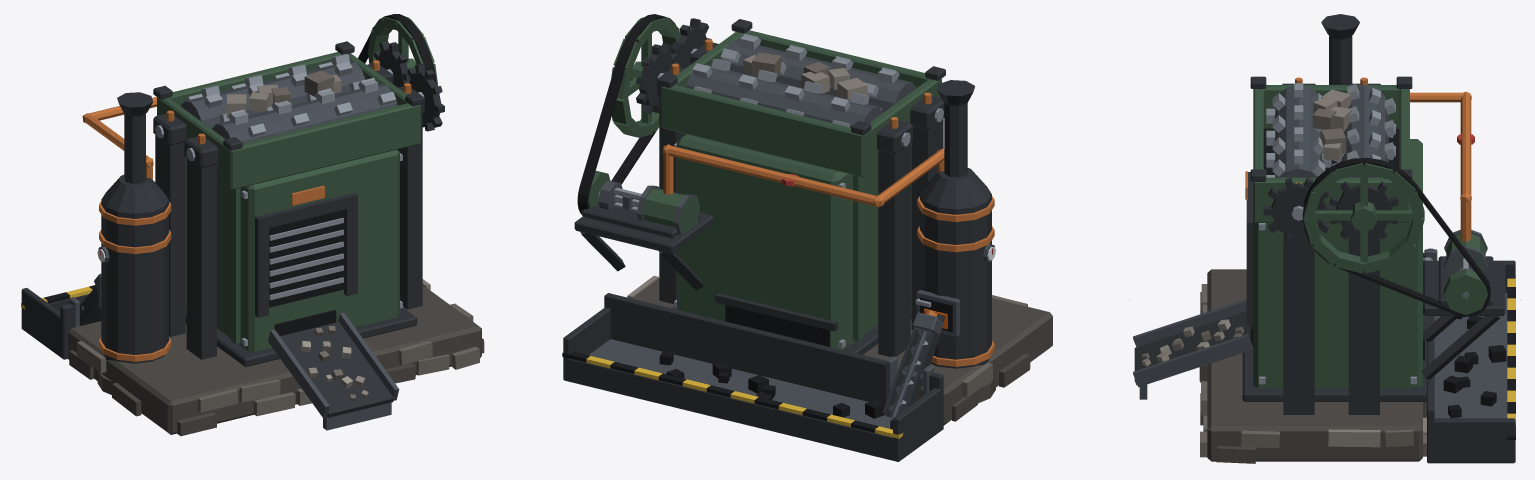
File: concasseur_t1.glb
3 renders of one model, left to right at view 1: azimuth 30°, elevation 25°; view 2: azimuth 150°, elevation 25°; view 3: azimuth 270°, elevation 25°, orthographic. The views are drawn at different scales.
Visible parts, largest first — view 1: pieces_fonte.015, bati.004, massif.005, pieces_vert_fonce.002, chaudiere.005, pieces_pierre.009, bouche_machoires.002, pieces_acier_sombre.015, rouleau_acier_sombre.002, pieces_acier.015, volant_acier_sombre.002, pieces_pierre_sombre.007 (+15 smaller); view 2: pieces_fonte.015, bati.004, pieces_vert_fonce.002, chaudiere.005, massif.005, bac_charbon.002, pieces_cuivre.007, volant_acier_sombre.002, pieces_noir.015, courroie.002, volant_vert_fonce.002, rouleau_acier_sombre.002 (+19 smaller); view 3: pieces_fonte.015, massif.005, bati.004, pieces_vert_fonce.002, volant_vert_fonce.002, bac_charbon.002, pieces_acier_sombre.015, pieces_pierre.009, rouleau_acier_sombre.002, courroie.002, pieces_cuivre.007, rouleau_acier.002 (+15 smaller).
Boxes of the visible parts, box(x1,y1,x2,y2) form: pieces_fonte.015: box(21, 41, 424, 417); bati.004: box(217, 149, 399, 351); massif.005: box(68, 285, 481, 434); pieces_vert_fonce.002: box(157, 52, 420, 344); chaudiere.005: box(101, 200, 168, 363); pieces_pierre.009: box(76, 70, 479, 416); bouche_machoires.002: box(269, 209, 344, 307); pieces_acier_sombre.015: box(69, 276, 399, 430); rouleau_acier_sombre.002: box(212, 84, 397, 143); pieces_acier.015: box(241, 153, 402, 346); volant_acier_sombre.002: box(181, 61, 365, 128); pieces_pierre_sombre.007: box(69, 338, 484, 436); pieces_fonte.015: box(563, 19, 967, 461); bati.004: box(677, 134, 878, 349); pieces_vert_fonce.002: box(661, 30, 941, 341); chaudiere.005: box(920, 194, 991, 368); massif.005: box(632, 278, 1052, 425); bac_charbon.002: box(589, 339, 892, 428); pieces_cuivre.007: box(662, 39, 944, 316); volant_acier_sombre.002: box(686, 64, 883, 127); pieces_noir.015: box(562, 351, 892, 432); courroie.002: box(577, 14, 675, 213); volant_vert_fonce.002: box(611, 17, 680, 137); rouleau_acier_sombre.002: box(720, 40, 916, 111); pieces_fonte.015: box(1134, 36, 1515, 463); massif.005: box(1207, 269, 1422, 461); bati.004: box(1253, 139, 1422, 387); pieces_vert_fonce.002: box(1253, 85, 1409, 387); volant_vert_fonce.002: box(1303, 157, 1424, 273); bac_charbon.002: box(1434, 293, 1507, 418); pieces_acier_sombre.015: box(1133, 249, 1472, 399); pieces_pierre.009: box(1200, 108, 1426, 457); rouleau_acier_sombre.002: box(1274, 86, 1323, 177); courroie.002: box(1302, 157, 1490, 316); pieces_cuivre.007: box(1245, 77, 1471, 241); rouleau_acier.002: box(1266, 83, 1331, 220).
Size of the model in its own units: 1.5 by 1.27 by 1.5.
